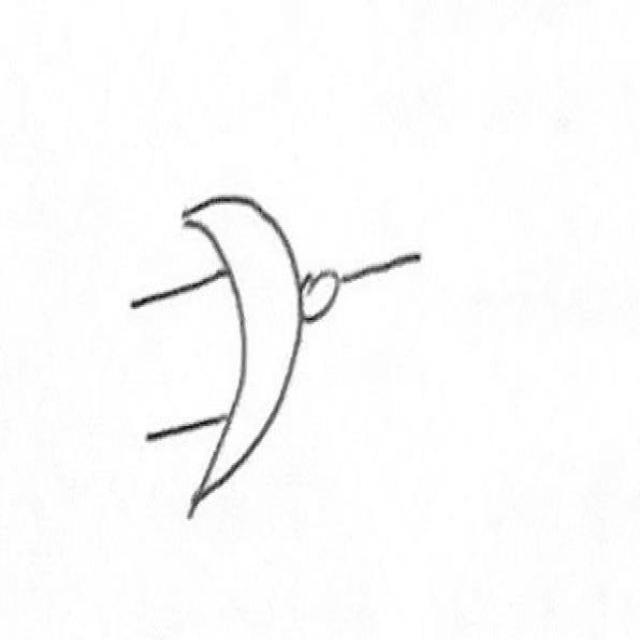NOR: (172, 189, 342, 540)
